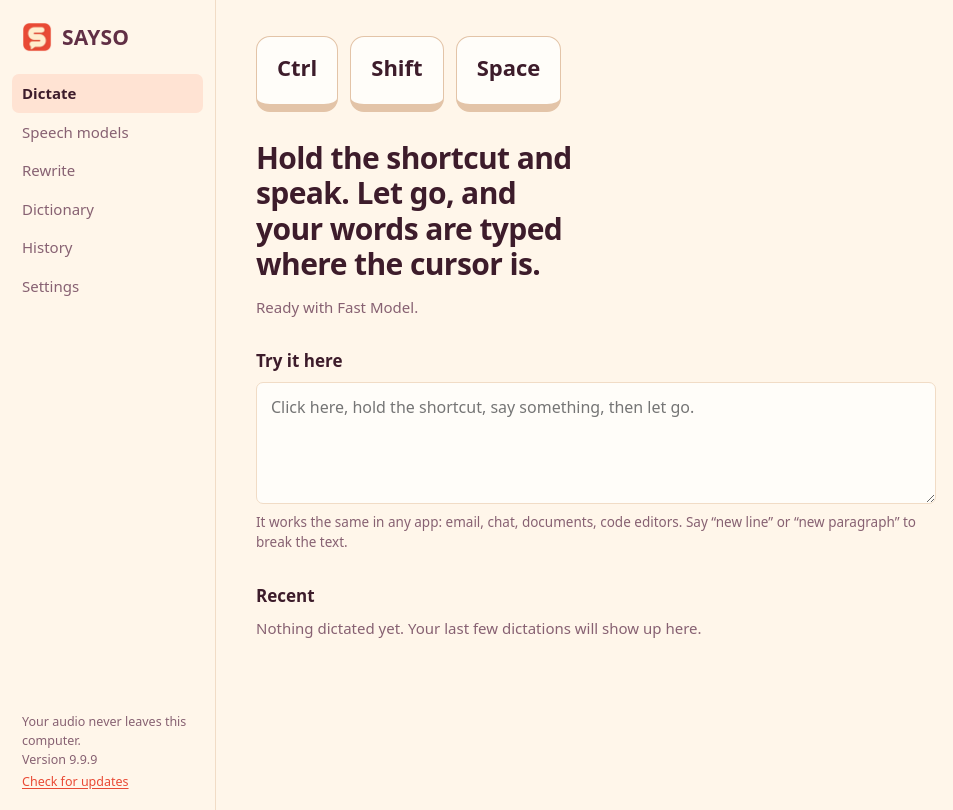
Test case: settings › cancels shortcut recording with Escape
Check: the navigation bar is shown, box [0,0,216,809]
Click the button "Settings" at [108, 286], box [12,266,203,305]
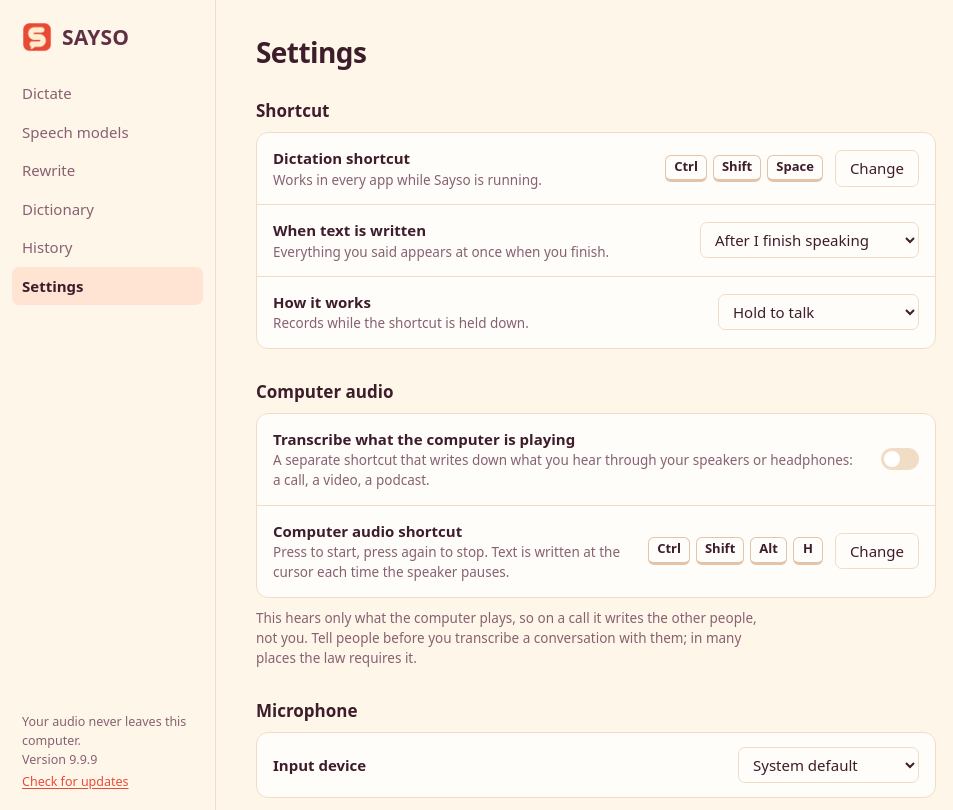
Check: the heading "Settings" is shown, box [256,33,366,71]
Click the button "Change" next to "Space" at [877, 169], box [835,150,919,187]
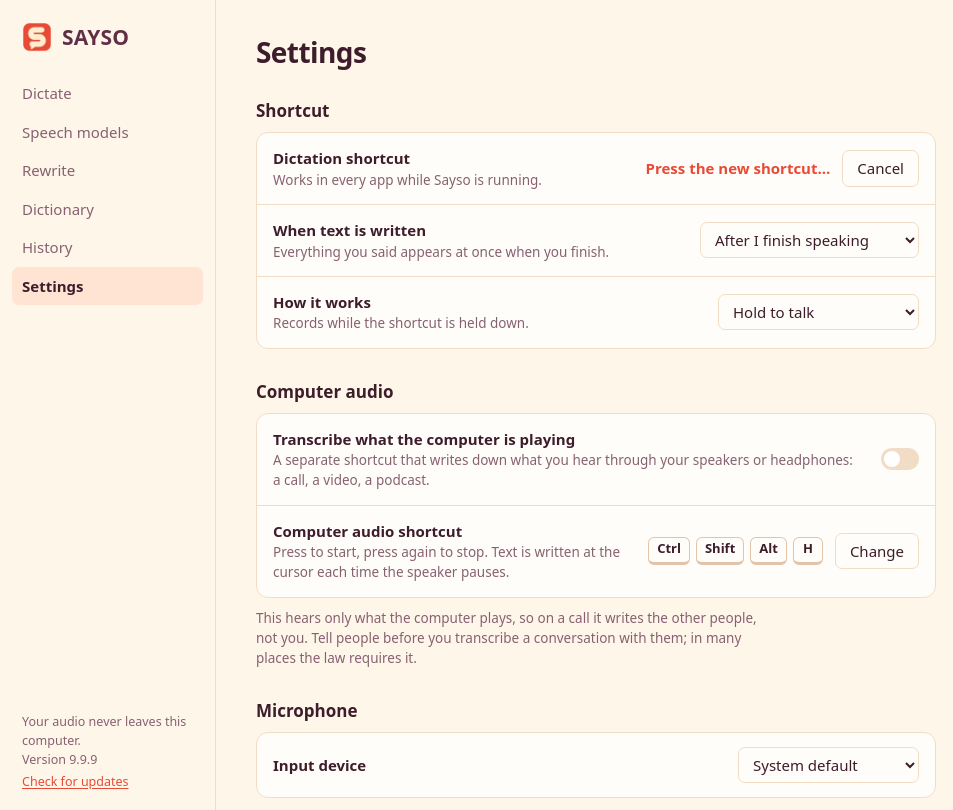
Press Escape
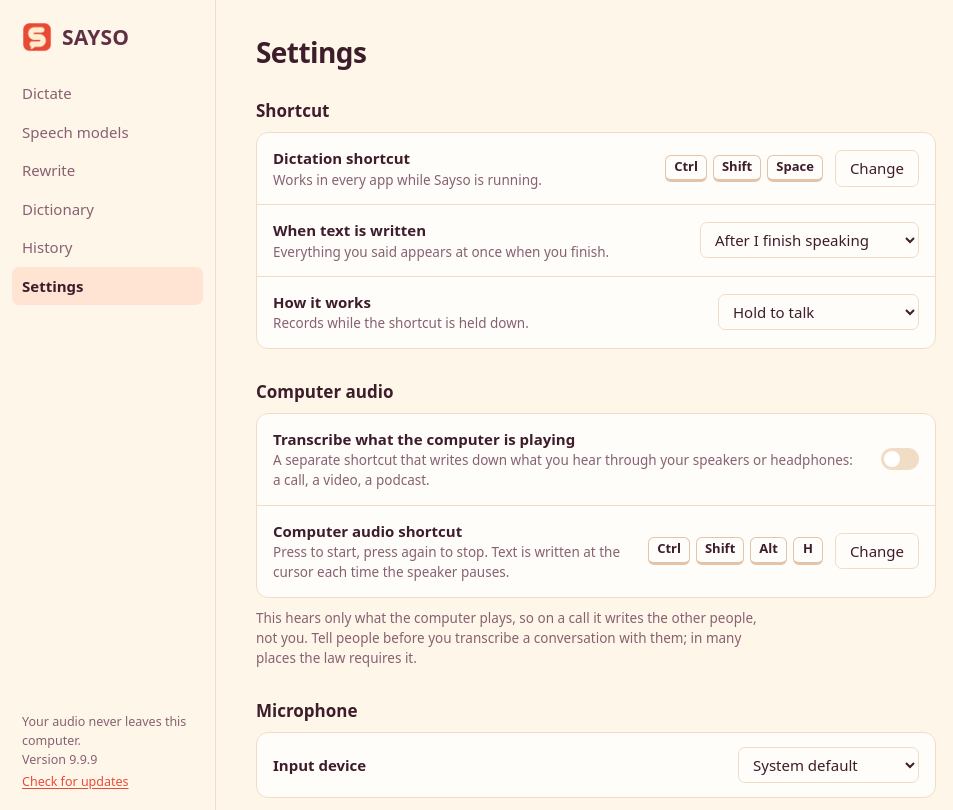
Check: the text "Press the new shortcut…" is gone
